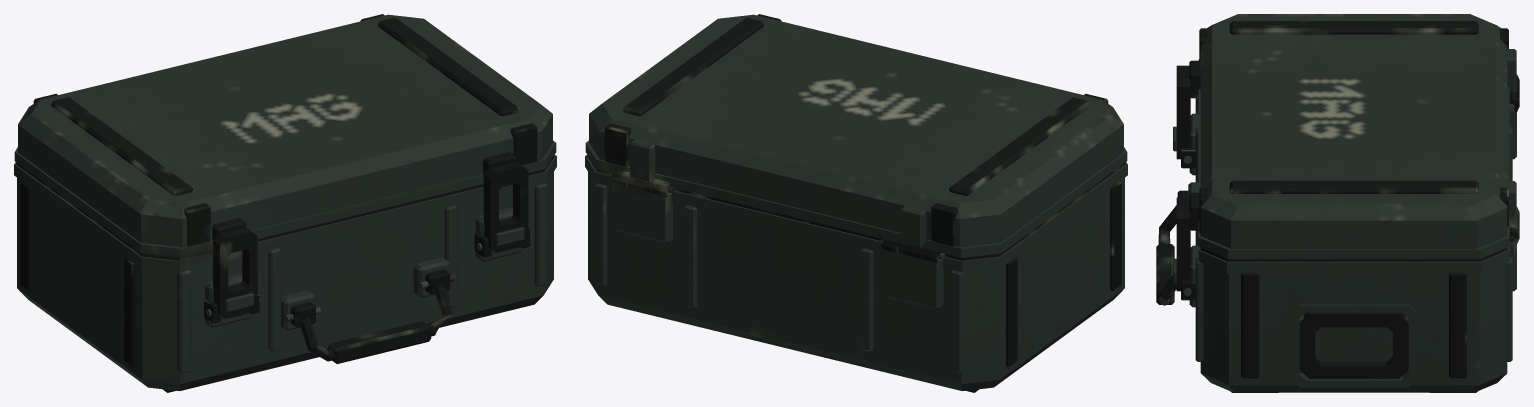
File: magazine_case.glb
3 renders of one model, left to right at view 1: azimuth 30°, elevation 25°; view 2: azimuth 150°, elevation 25°; view 3: azimuth 270°, elevation 25°, orthographic.
Visible parts, largest first — view 1: MagazineCaseLid, MagazineCaseBody, MagazineCaseLatch2, MagazineCaseHandle, MagazineCaseLatch1; view 2: MagazineCaseLid, MagazineCaseBody; view 3: MagazineCaseLid, MagazineCaseBody, MagazineCaseHandle, MagazineCaseLatch2, MagazineCaseLatch1.
Boxes of the visible parts, <box> form: MagazineCaseLid: <box>14,14,556,257</box>; MagazineCaseBody: <box>14,155,556,392</box>; MagazineCaseLatch2: <box>476,161,531,252</box>; MagazineCaseHandle: <box>301,284,452,363</box>; MagazineCaseLatch1: <box>206,227,260,318</box>; MagazineCaseLid: <box>585,14,1127,258</box>; MagazineCaseBody: <box>585,155,1127,392</box>; MagazineCaseLid: <box>1189,14,1519,258</box>; MagazineCaseBody: <box>1177,74,1519,392</box>; MagazineCaseHandle: <box>1156,205,1176,305</box>; MagazineCaseLatch2: <box>1173,197,1191,296</box>; MagazineCaseLatch1: <box>1173,65,1191,163</box>.
Size of what is drawn, in the model's own units: 0.48 by 0.22 by 0.36.
1 material, 1 textured.
